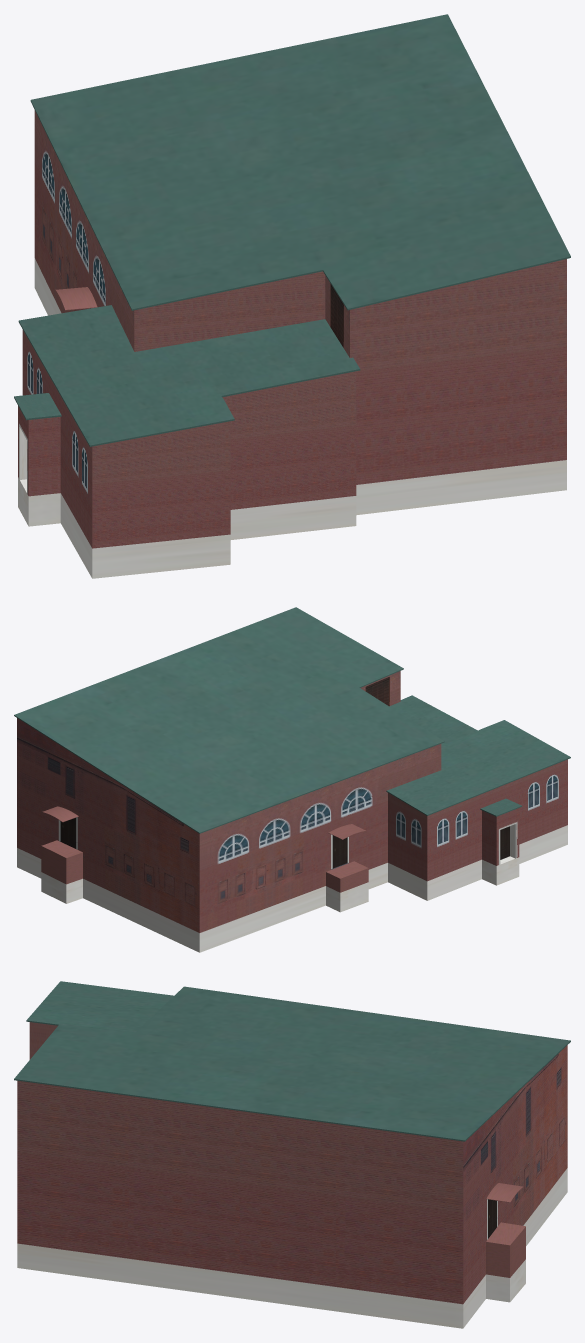
The picture shows the model from 3 angles, top to bottom: view 1: azimuth 30°, elevation 25°; view 2: azimuth 150°, elevation 25°; view 3: azimuth 270°, elevation 25°; orthographic projection. The views are drawn at different scales.
Visible parts, largest first — view 1: Group_002, Group_003, Group_017, Group_001, Group_021, Group_005, Group_012, Group_022, Group_024, Group_020, Group_004, Group_019 (+1 smaller); view 2: Group_002, Group_011, Group_005, Group_001, Group_022, Group_012, Group_021, Group_018, Group_007, Group_010, Group_014, Group_013 (+4 smaller); view 3: Group_003, Group_002, Group_011, Group_012, Group_001, Group_007, Group_013, Group_017, Group_008.
Boxes of the visible parts, x1,y1,x2,y2 form: Group_002: [30, 14, 570, 310]; Group_003: [134, 259, 566, 484]; Group_017: [92, 371, 356, 548]; Group_001: [18, 305, 360, 446]; Group_021: [60, 493, 356, 578]; Group_005: [34, 110, 134, 351]; Group_012: [34, 258, 566, 515]; Group_022: [22, 329, 92, 547]; Group_024: [28, 417, 60, 496]; Group_020: [18, 477, 60, 526]; Group_004: [325, 275, 349, 357]; Group_019: [14, 393, 61, 420]; Group_002: [14, 607, 444, 833]; Group_011: [17, 718, 199, 932]; Group_005: [199, 744, 441, 932]; Group_001: [386, 695, 570, 815]; Group_022: [427, 759, 567, 881]; Group_012: [17, 848, 387, 952]; Group_021: [388, 825, 567, 900]; Group_018: [388, 793, 427, 880]; Group_007: [41, 840, 82, 884]; Group_010: [326, 861, 368, 892]; Group_014: [326, 882, 368, 912]; Group_013: [41, 872, 82, 903]; Group_003: [17, 1080, 463, 1304]; Group_002: [14, 986, 570, 1141]; Group_011: [463, 1045, 567, 1303]; Group_012: [17, 1168, 567, 1328]; Group_001: [26, 981, 173, 1032]; Group_007: [486, 1222, 525, 1277]; Group_013: [486, 1259, 525, 1302]; Group_017: [29, 1022, 57, 1059]; Group_008: [486, 1183, 523, 1202].
Size of the model in its own units: 42.13 by 15.54 by 41.34.
14 materials, 12 textured.
